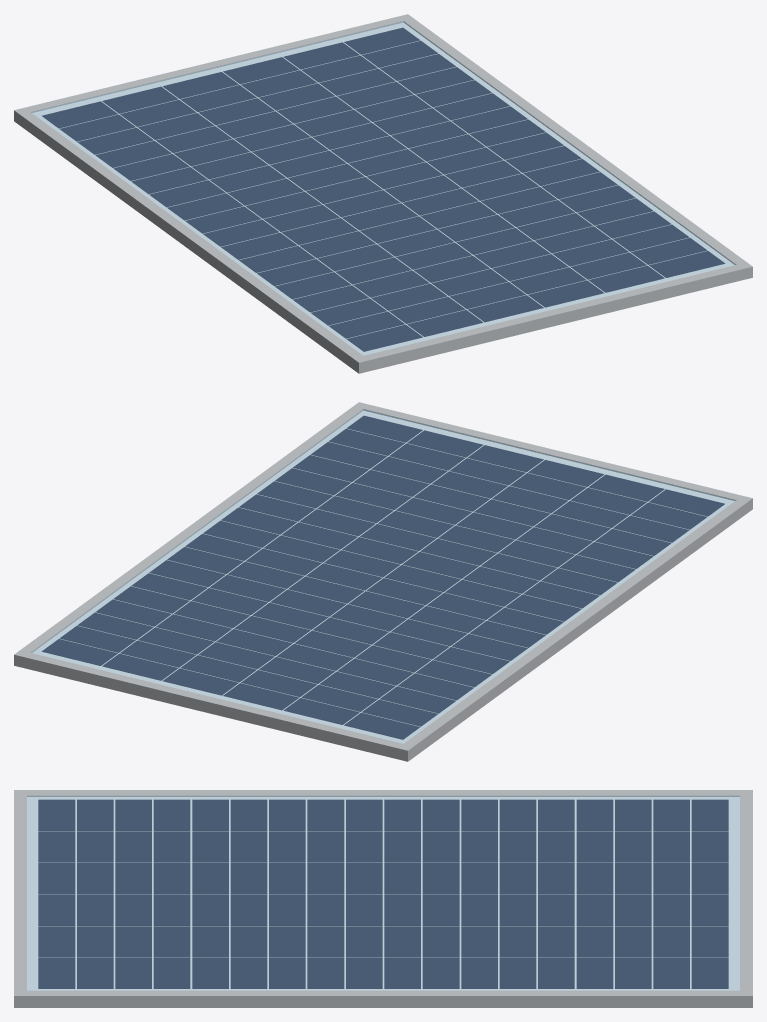
Rendered from solar_panel_rich_solar_mega_400.glb.
3 renders of one model, top to bottom at view 1: azimuth 30°, elevation 25°; view 2: azimuth 150°, elevation 25°; view 3: azimuth 270°, elevation 25°, orthographic. The views are drawn at different scales.
Parts seen in each view (by area): view 1: solar_panel_rich_solar_mega_400; view 2: solar_panel_rich_solar_mega_400; view 3: solar_panel_rich_solar_mega_400.
Part boxes in pixels (x1,y1,x2,y2): solar_panel_rich_solar_mega_400: (14, 14, 752, 373); solar_panel_rich_solar_mega_400: (14, 402, 752, 761); solar_panel_rich_solar_mega_400: (14, 790, 752, 1007).
Size of the model in its own units: 1.14 by 0.0305 by 1.72.
